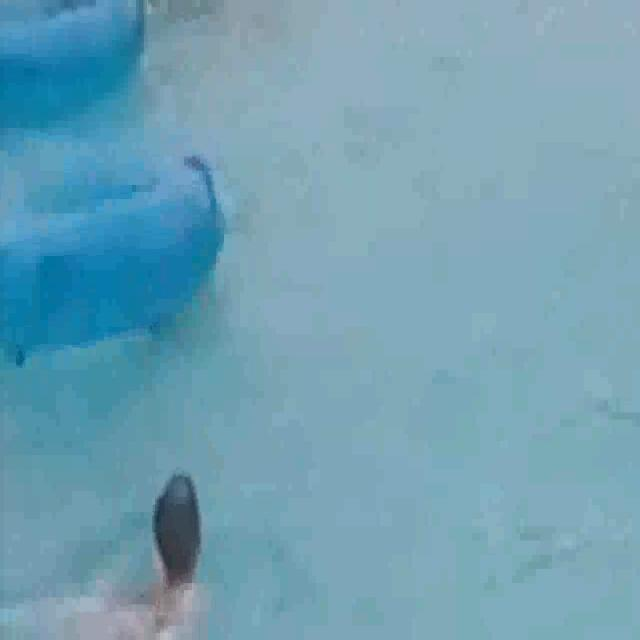drowning: (137, 103, 270, 381)
